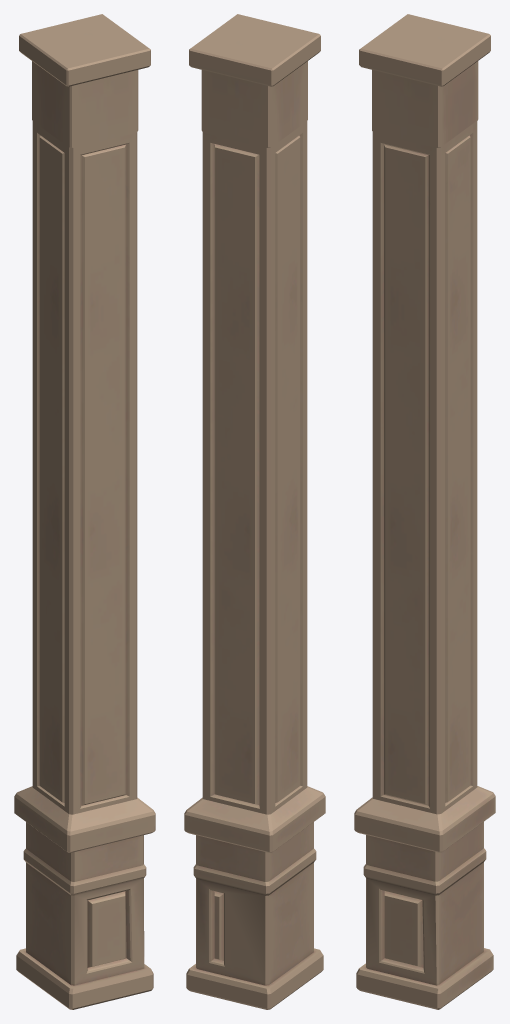
File: ColumnInnerCorner (1).fbx
3 views of the same model, side by side, from view 1: azimuth 30°, elevation 25°; view 2: azimuth 150°, elevation 25°; view 3: azimuth 330°, elevation 25° (orthographic).
Parts seen in each view (by area): view 1: column2Middle1, ColumnInnerCorner (1), column2Top; view 2: column2Middle1, ColumnInnerCorner (1), column2Top; view 3: column2Middle1, ColumnInnerCorner (1), column2Top.
Part boxes in pixels (x1,y1,x2,y2): column2Middle1: (32, 121, 137, 814); ColumnInnerCorner (1): (14, 786, 155, 1009); column2Top: (19, 14, 150, 147); column2Middle1: (202, 121, 307, 814); ColumnInnerCorner (1): (184, 786, 325, 1009); column2Top: (189, 14, 320, 147); column2Middle1: (372, 121, 477, 814); ColumnInnerCorner (1): (354, 786, 495, 1009); column2Top: (359, 14, 490, 147).
Size of the model in its own units: 197 by 1997 by 213.
